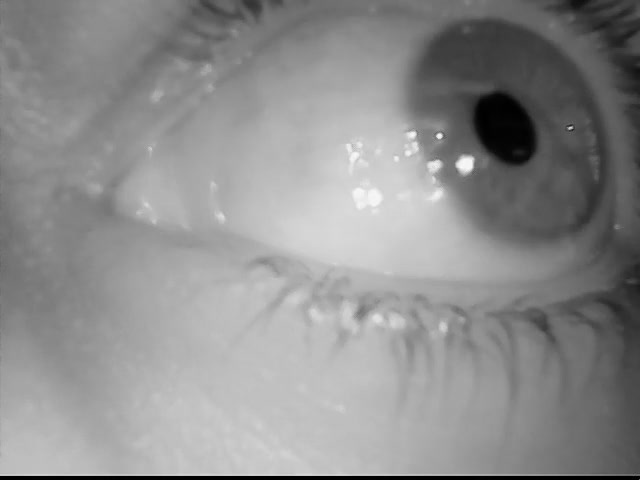PUPIL: (462, 84, 547, 174)
